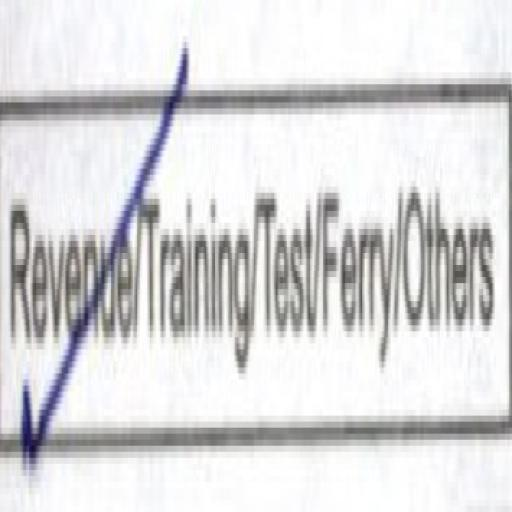check: (8, 27, 136, 490)
